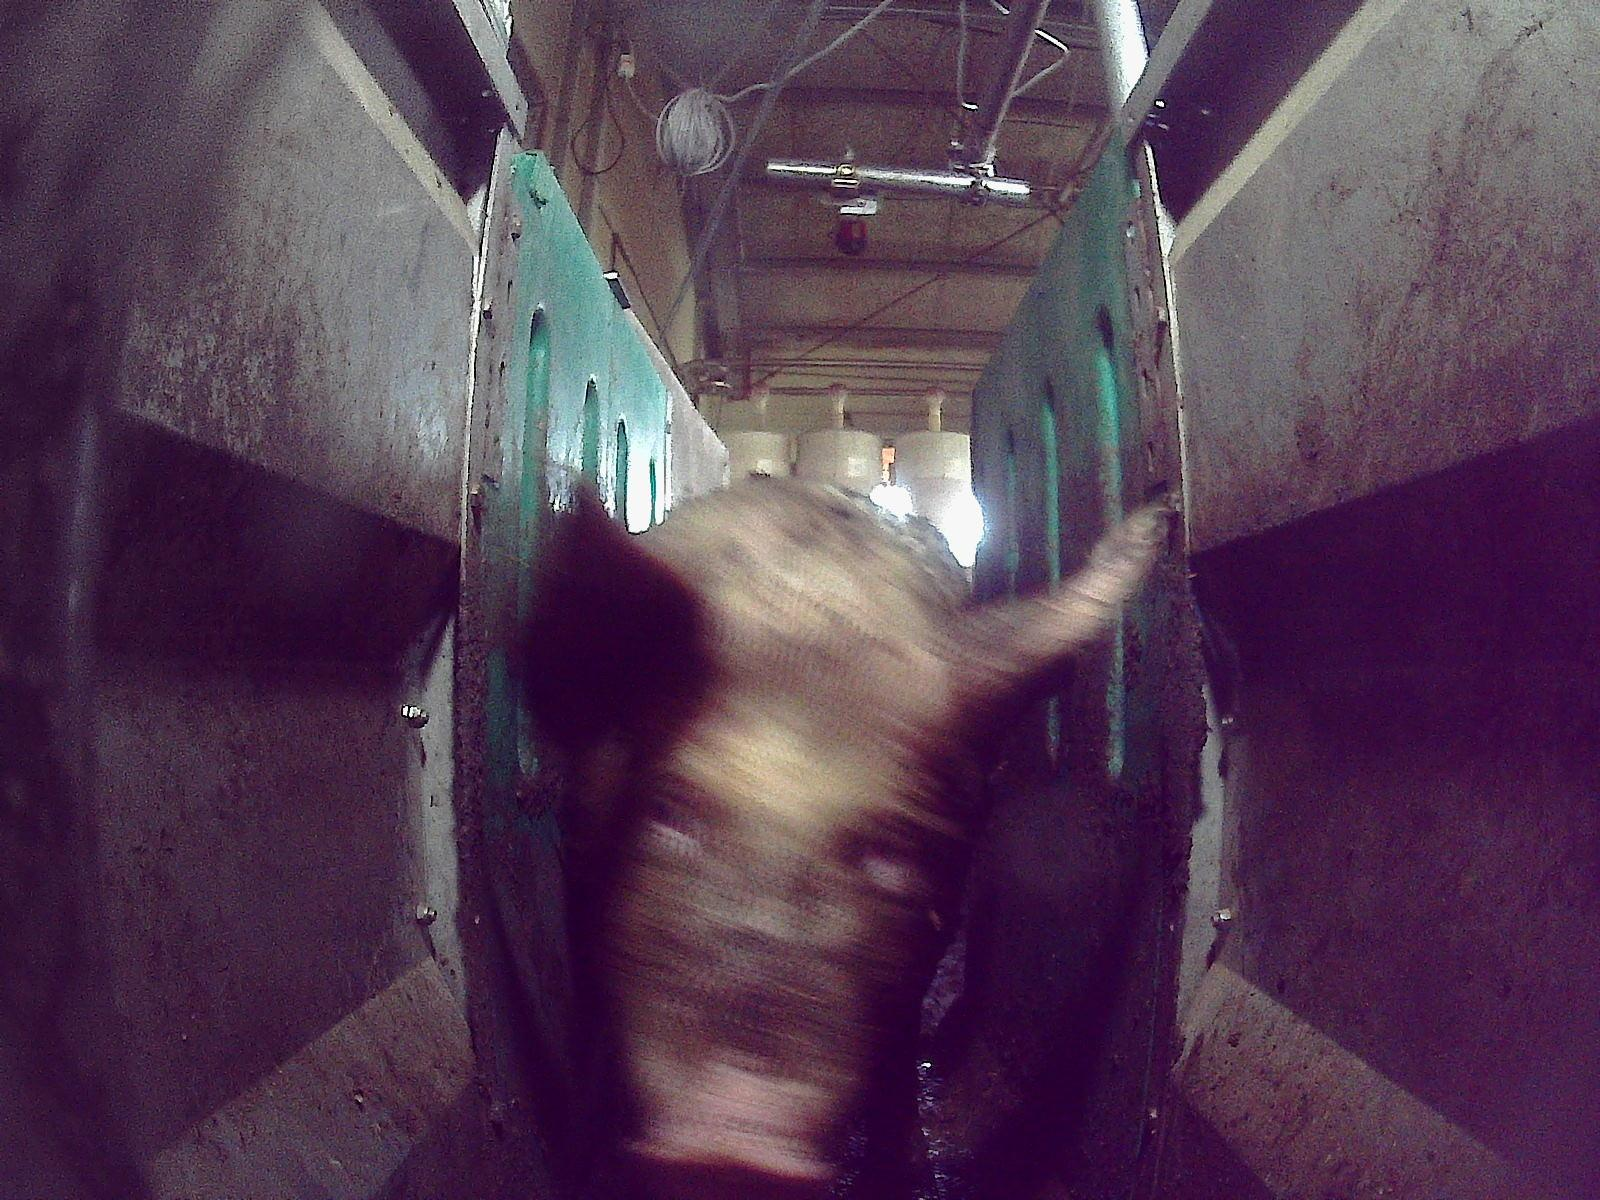Face: (585, 644, 963, 1199)
